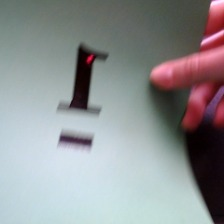green1: (49, 36, 115, 158)
